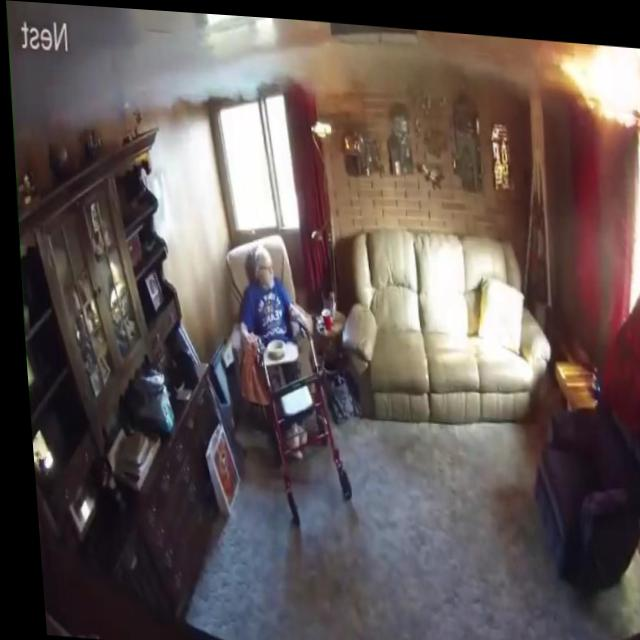fire: (557, 44, 640, 120)
